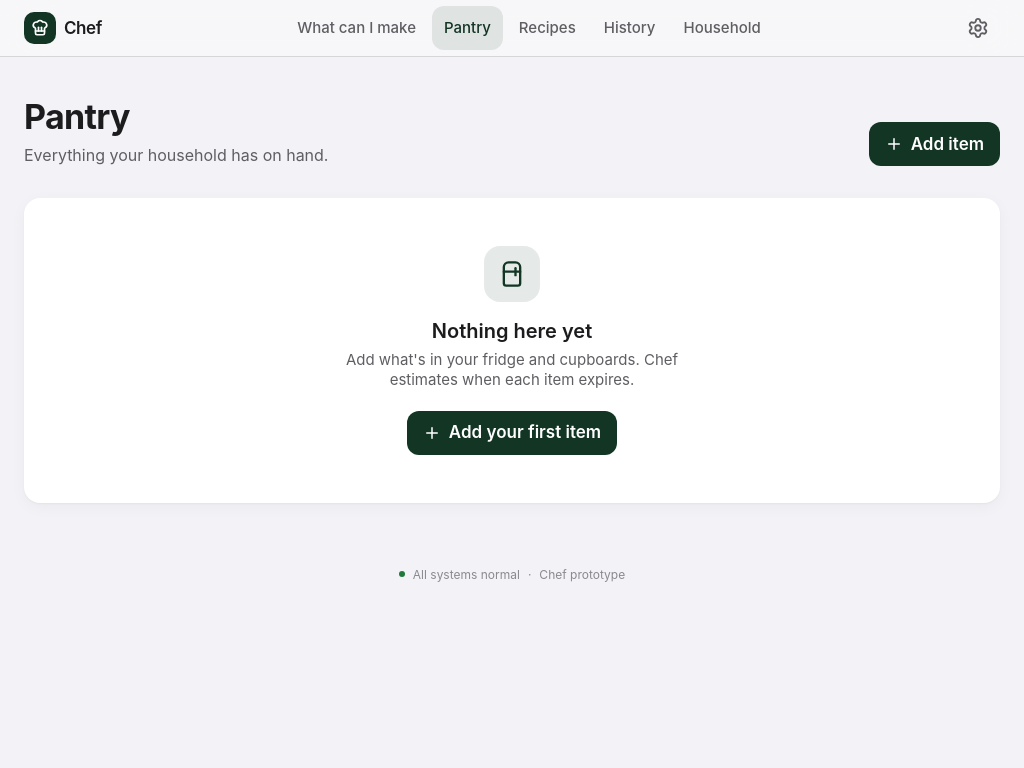
it: PantryPage › has an empty state that opens the add sheet
Click the button "Add your first item": (512, 433) x1=407 y1=411 x2=617 y2=455
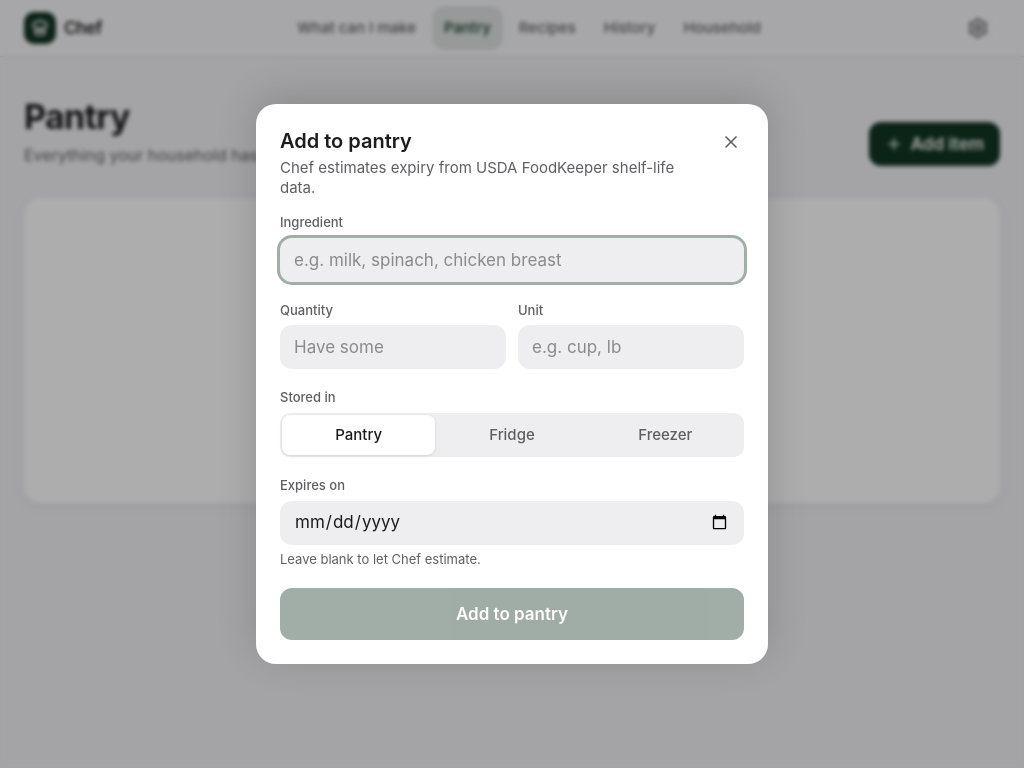
Now the dialog "Add to pantry" is shown, box x1=256 y1=104 x2=768 y2=664
